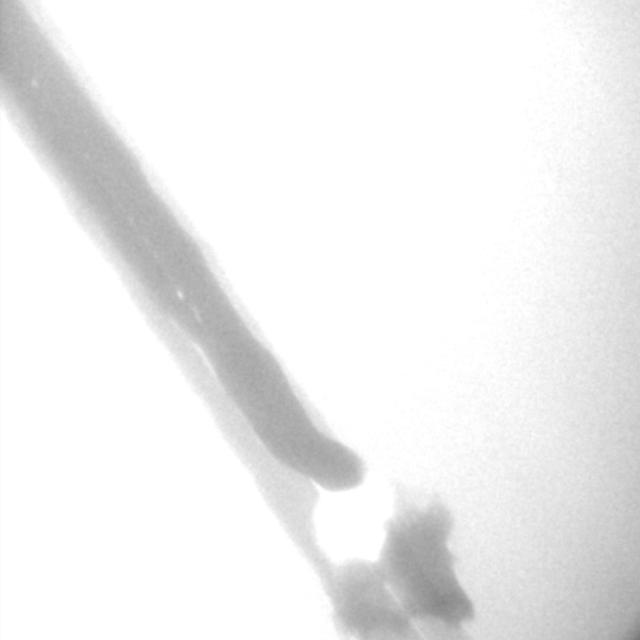air hole: (174, 287, 183, 299), (29, 76, 36, 86)
broken arc: (190, 338, 424, 636)
